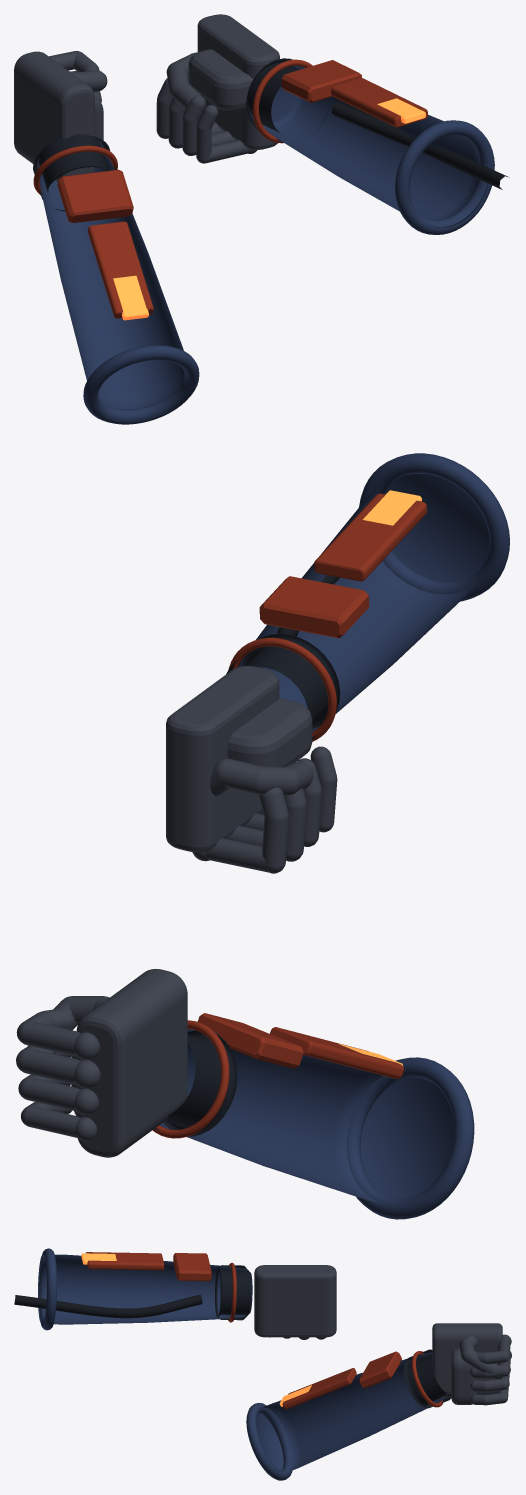
File: hands_ember_tool.glb
3 views of the same model, one above another, from view 1: azimuth 30°, elevation 25°; view 2: azimuth 150°, elevation 25°; view 3: azimuth 270°, elevation 25° (orthographic). The views are drawn at different scales.
Visible parts, largest first — view 1: hand_l_forearm, hand_r_forearm, hand_l_palm, hand_r_palm, hand_r_sleeve_roll, hand_l_sleeve_roll, hand_l_cuff_plate, hand_l_forearm_plate, hand_r_heel, hand_r_hose, hand_l_cuff, hand_r_cuff_plate (+13 smaller); view 2: hand_l_forearm, hand_r_forearm, hand_l_palm, hand_r_palm, hand_l_sleeve_roll, hand_r_sleeve_roll, hand_r_cuff_plate, hand_r_forearm_plate, hand_r_heel, hand_l_cuff, hand_r_cuff, hand_r_finger3 (+14 smaller); view 3: hand_l_forearm, hand_r_forearm, hand_r_palm, hand_l_palm, hand_r_hose, hand_l_sleeve_roll, hand_r_cuff, hand_l_cuff, hand_r_sleeve_roll, hand_r_forearm_plate, hand_l_heel, hand_r_cuff_plate (+10 smaller).
Boxes of the visible parts, x1=… form: hand_l_forearm: x1=37, y1=138, x2=191, y2=422; hand_r_forearm: x1=249, y1=62, x2=490, y2=227; hand_l_palm: x1=14, y1=51, x2=94, y2=181; hand_r_palm: x1=197, y1=14, x2=279, y2=149; hand_r_sleeve_roll: x1=395, y1=120, x2=494, y2=234; hand_l_sleeve_roll: x1=83, y1=345, x2=199, y2=424; hand_l_cuff_plate: x1=57, y1=169, x2=133, y2=222; hand_l_forearm_plate: x1=87, y1=221, x2=153, y2=318; hand_r_heel: x1=188, y1=49, x2=253, y2=110; hand_r_hose: x1=331, y1=102, x2=509, y2=189; hand_l_cuff: x1=33, y1=134, x2=115, y2=211; hand_r_cuff_plate: x1=281, y1=60, x2=361, y2=102; hand_l_forearm: x1=159, y1=1029, x2=453, y2=1204; hand_r_forearm: x1=238, y1=474, x2=489, y2=732; hand_l_palm: x1=76, y1=969, x2=187, y2=1157; hand_r_palm: x1=166, y1=666, x2=279, y2=852; hand_l_sleeve_roll: x1=346, y1=1057, x2=474, y2=1219; hand_r_sleeve_roll: x1=359, y1=453, x2=509, y2=601; hand_r_cuff_plate: x1=259, y1=576, x2=369, y2=638; hand_r_forearm_plate: x1=314, y1=493, x2=426, y2=581; hand_r_heel: x1=227, y1=698, x2=312, y2=766; hand_l_cuff: x1=155, y1=1030, x2=237, y2=1136; hand_r_cuff: x1=226, y1=633, x2=340, y2=738; hand_r_finger3: x1=205, y1=787, x2=289, y2=873; hand_l_forearm: x1=256, y1=1352, x2=446, y2=1471; hand_r_forearm: x1=38, y1=1254, x2=252, y2=1324; hand_r_palm: x1=254, y1=1265, x2=336, y2=1337; hand_l_palm: x1=432, y1=1323, x2=502, y2=1397; hand_r_hose: x1=14, y1=1294, x2=202, y2=1318; hand_l_sleeve_roll: x1=246, y1=1403, x2=292, y2=1480; hand_r_cuff: x1=215, y1=1265, x2=250, y2=1320; hand_l_cuff: x1=404, y1=1349, x2=450, y2=1408; hand_r_sleeve_roll: x1=39, y1=1248, x2=57, y2=1330; hand_r_forearm_plate: x1=85, y1=1252, x2=164, y2=1270; hand_l_heel: x1=451, y1=1349, x2=476, y2=1404; hand_r_cuff_plate: x1=173, y1=1253, x2=211, y2=1281.
Bounding box in the file's own units: 0.2264 × 0.3488 × 0.5818.
